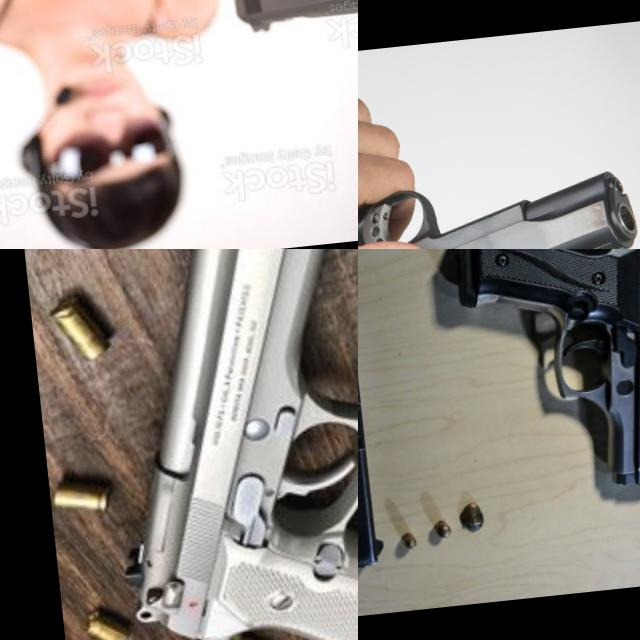handgun: (69, 249, 358, 640), (445, 249, 640, 511), (358, 252, 494, 590), (358, 164, 640, 249), (210, 0, 358, 81)
